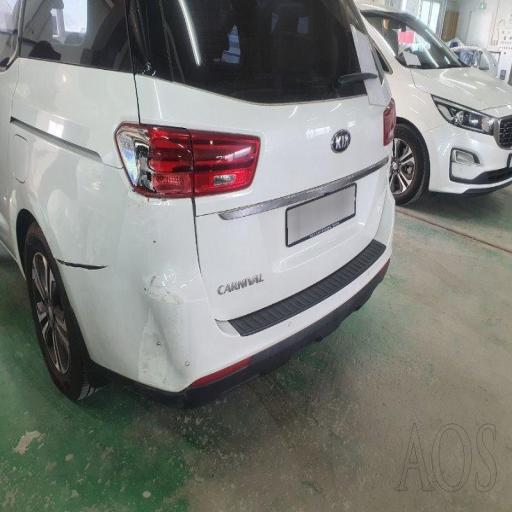broken: (45, 216, 119, 298)
dent: (102, 235, 228, 406)
